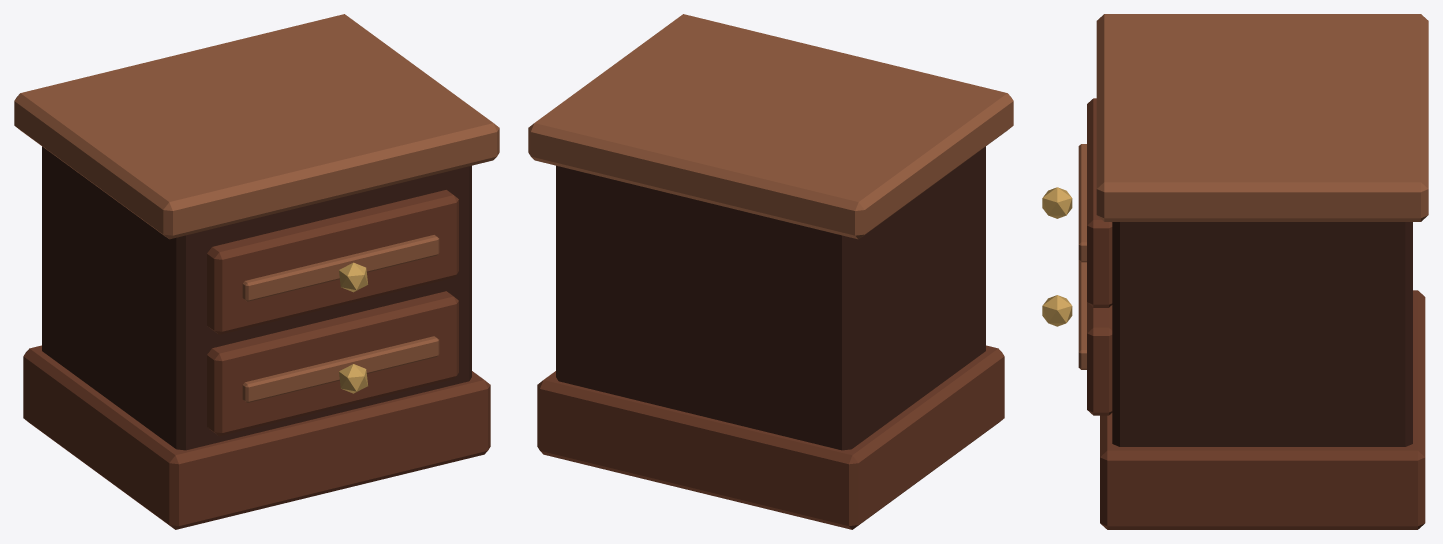
Rendered from nightstand.glb.
3 views of the same model, side by side, from view 1: azimuth 30°, elevation 25°; view 2: azimuth 150°, elevation 25°; view 3: azimuth 270°, elevation 25° (orthographic). The views are drawn at different scales.
Visible parts, largest first — view 1: Top, Body, Plinth, Front_00, Front_01, Inset_00, Inset_01, Handle_001, Handle; view 2: Body, Top, Plinth; view 3: Top, Body, Plinth, Front_01, Front_00, Inset_01, Inset_00, Handle, Handle_001.
Part boxes in pixels (left/top/right/bottom): Top: left=14, top=14, right=499, bottom=239; Body: left=42, top=146, right=471, bottom=450; Plinth: left=23, top=345, right=490, bottom=529; Front_00: left=207, top=291, right=458, bottom=436; Front_01: left=207, top=190, right=458, bottom=334; Inset_00: left=242, top=336, right=439, bottom=402; Inset_01: left=242, top=235, right=439, bottom=301; Handle_001: left=339, top=262, right=367, bottom=292; Handle: left=339, top=364, right=367, bottom=393; Body: left=556, top=146, right=985, bottom=450; Top: left=528, top=14, right=1013, bottom=239; Plinth: left=537, top=345, right=1004, bottom=529; Top: left=1096, top=14, right=1428, bottom=221; Body: left=1112, top=222, right=1412, bottom=446; Plinth: left=1100, top=290, right=1425, bottom=529; Front_01: left=1087, top=98, right=1112, bottom=307; Front_00: left=1087, top=302, right=1112, bottom=415; Inset_01: left=1078, top=144, right=1086, bottom=262; Inset_00: left=1078, top=260, right=1086, bottom=369; Handle: left=1042, top=295, right=1072, bottom=326; Handle_001: left=1042, top=187, right=1072, bottom=218.
Size of the model in its own units: 0.66 by 0.62 by 0.6168.
